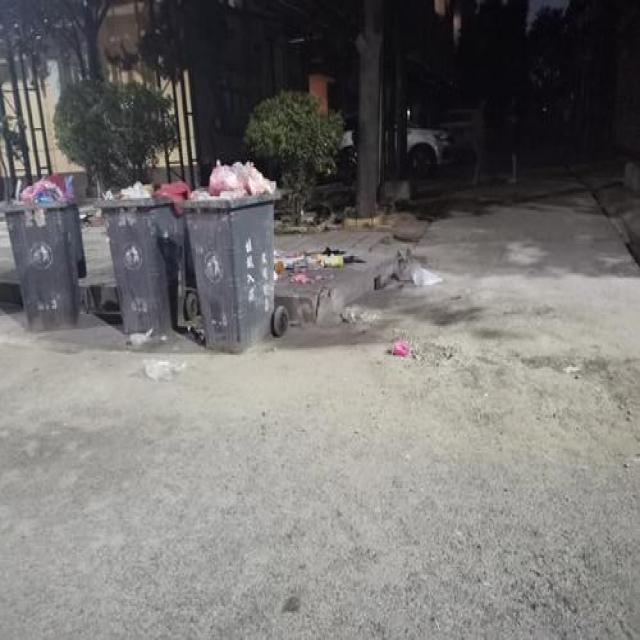garbage: (274, 244, 366, 283)
overflow: (177, 159, 279, 355), (92, 180, 187, 330), (1, 172, 84, 333)
